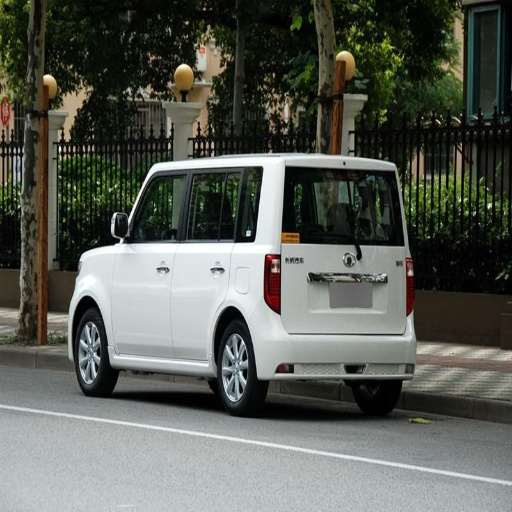back_bumper: (256, 307, 414, 380)
back_glass: (302, 202, 399, 244)
back_left_door: (171, 169, 230, 358)
tailgate: (339, 244, 389, 328)
trunk: (280, 246, 403, 333)
